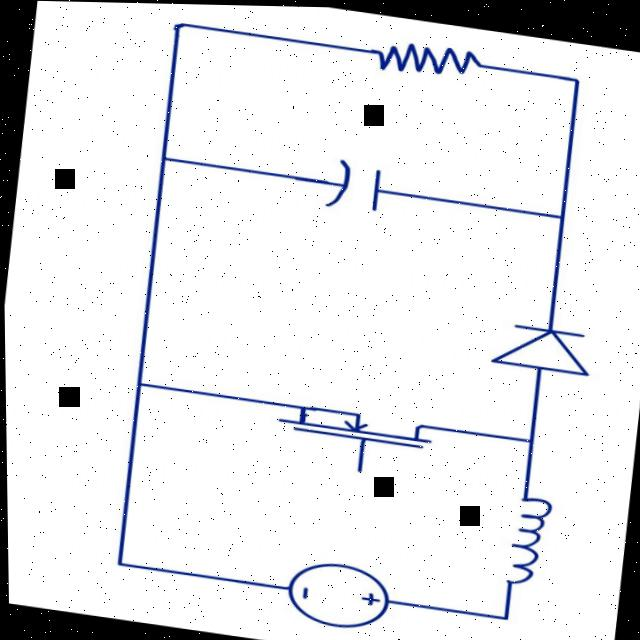capacitor: (305, 147, 423, 230)
diode: (470, 297, 620, 402)
inductor: (487, 472, 565, 600)
mosfet: (266, 376, 455, 492)
resistor: (350, 21, 516, 103)
source: (275, 550, 403, 634)
